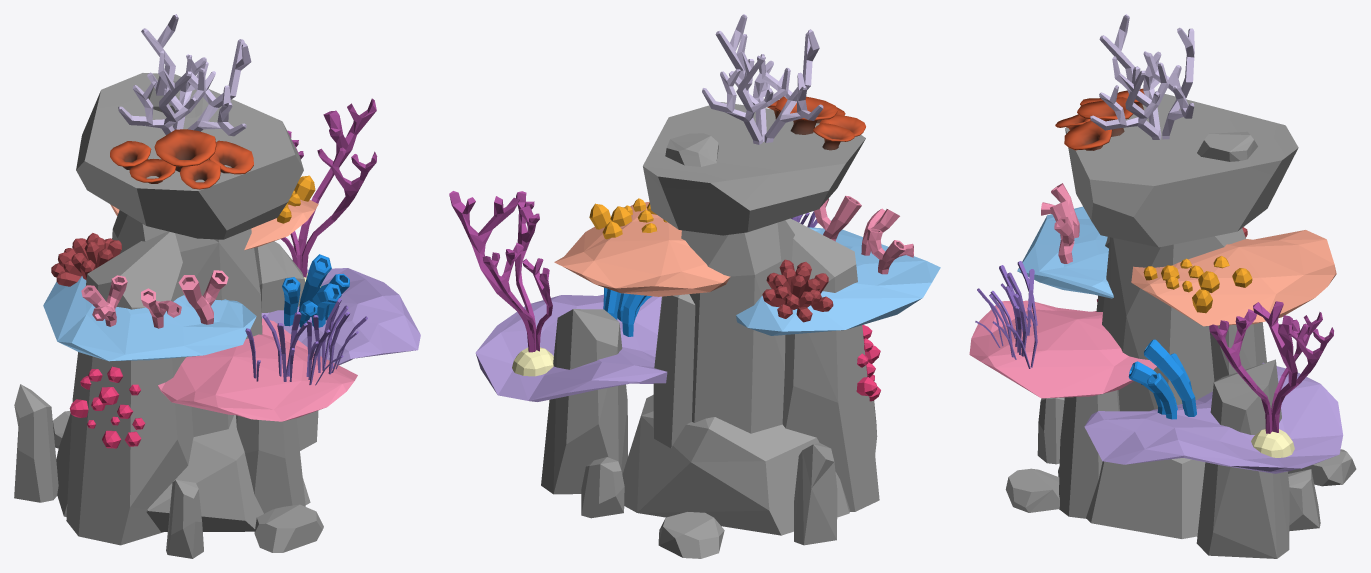
The model's file is Coral-6.glb.
3 views of the same model, side by side, from view 1: azimuth 30°, elevation 25°; view 2: azimuth 150°, elevation 25°; view 3: azimuth 270°, elevation 25° (orthographic). The views are drawn at different scales.
Parts seen in each view (by area): view 1: Coral_reef_007; view 2: Coral_reef_007; view 3: Coral_reef_007.
Boxes of the visible parts, left/top/right/bottom form: Coral_reef_007: left=14, top=14, right=420, bottom=558; Coral_reef_007: left=449, top=14, right=940, bottom=558; Coral_reef_007: left=969, top=14, right=1356, bottom=558.
Size of the model in its own units: 3.61 by 4.05 by 3.12.
Materials: 1 (1 with a texture image).
